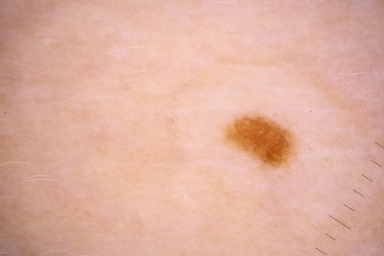nevus: (224, 114, 299, 173)
